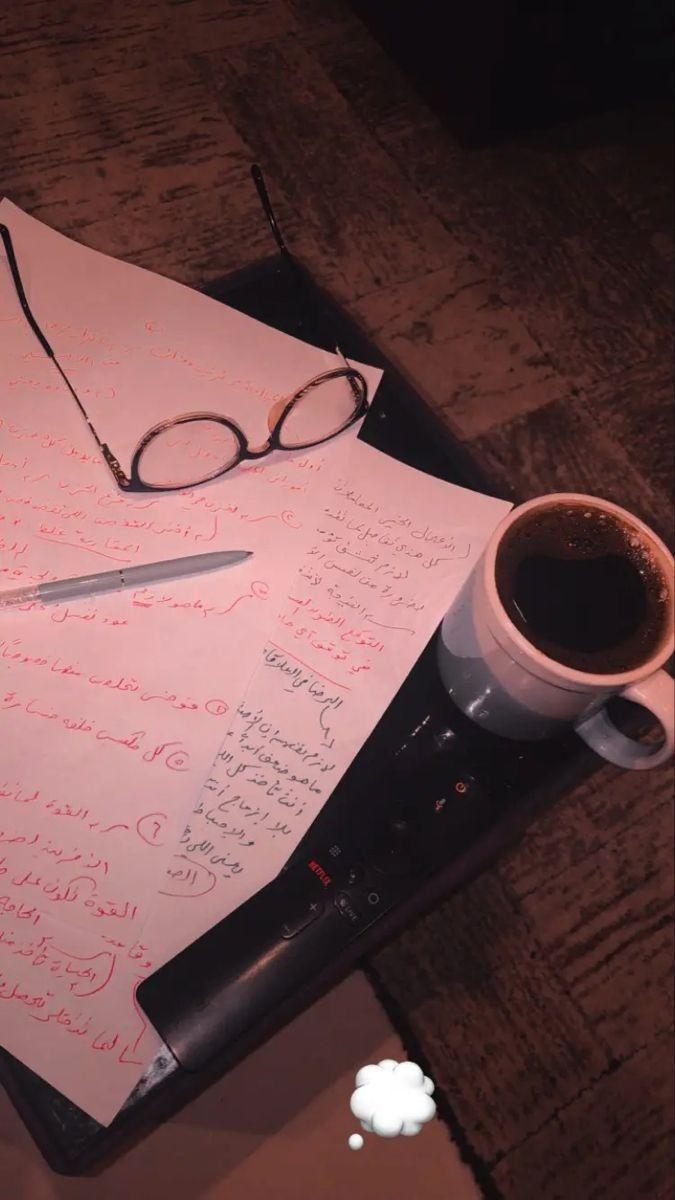cup-handle: (439, 490, 674, 772)
